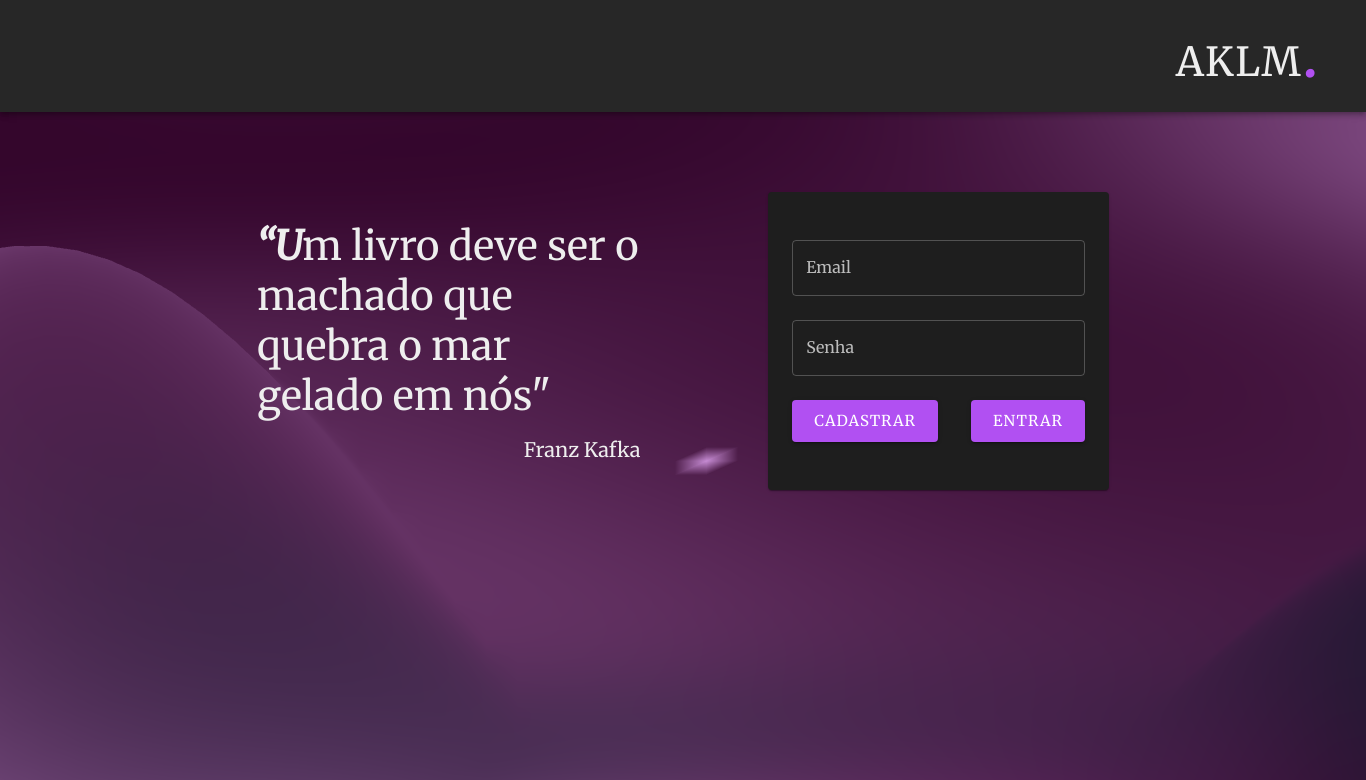
Test case: Login › não consegue logar sem senha ou email
This screenshot has width=1366, height=780.
Type "teste@email.com" into the field with id "email" at (939, 268), box [792,240,1085,296]
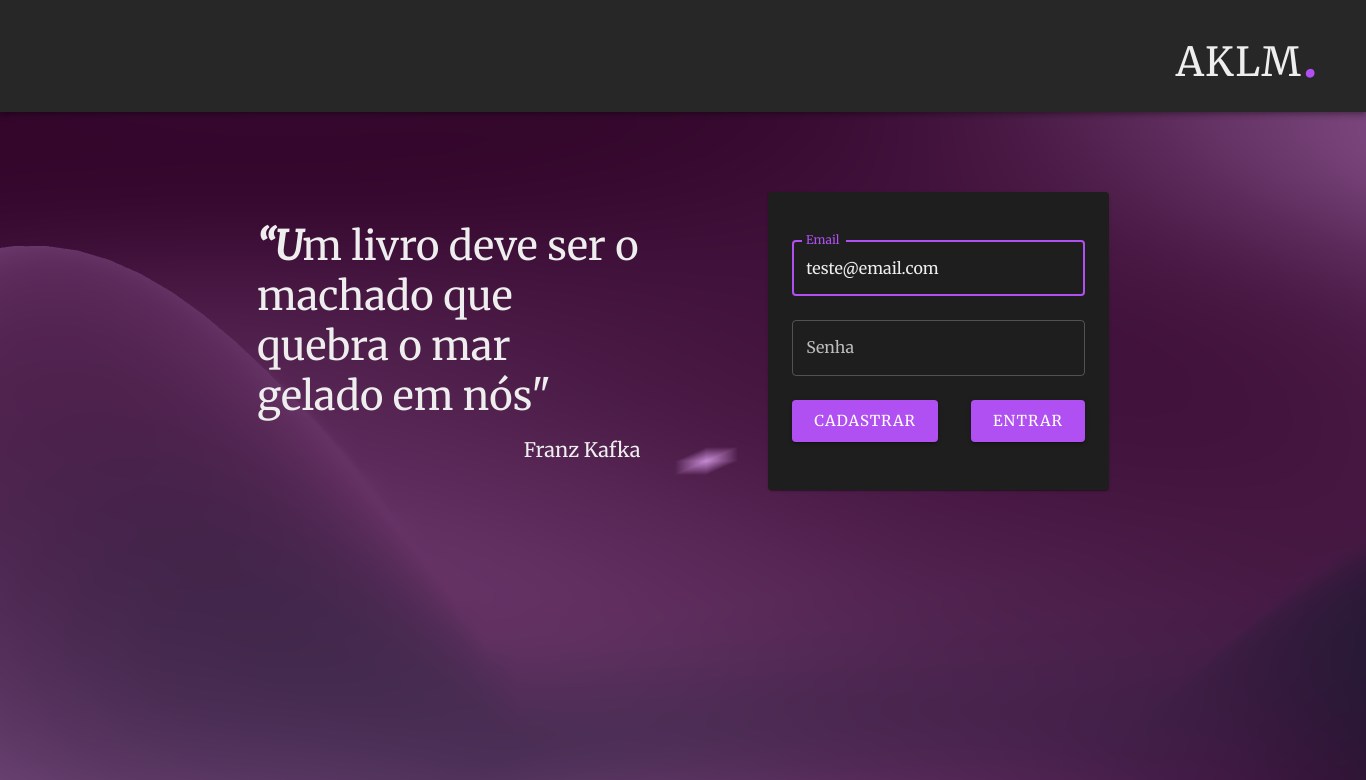
Click the submit button at (1028, 421), box [971,400,1085,442]
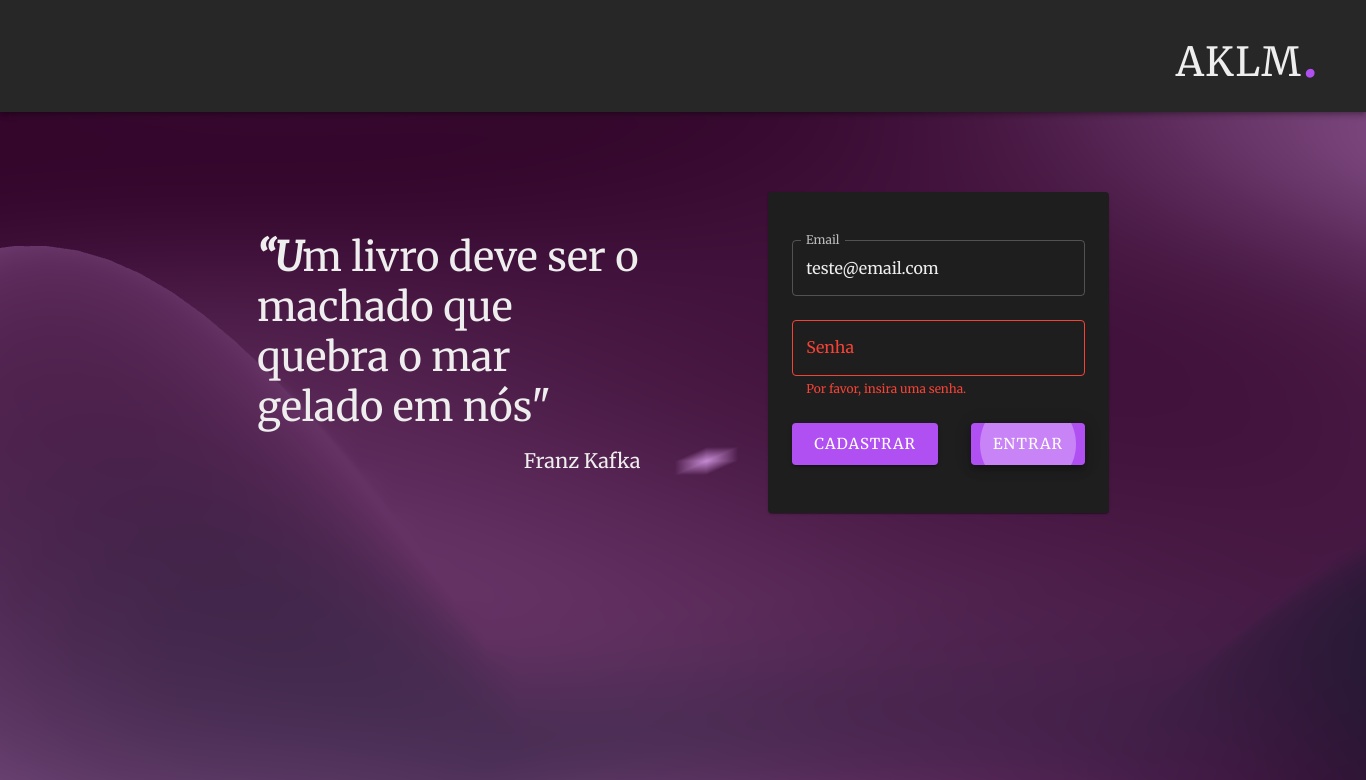
Now the text "Por favor, insira uma senha." is shown, box [806,381,966,396]
